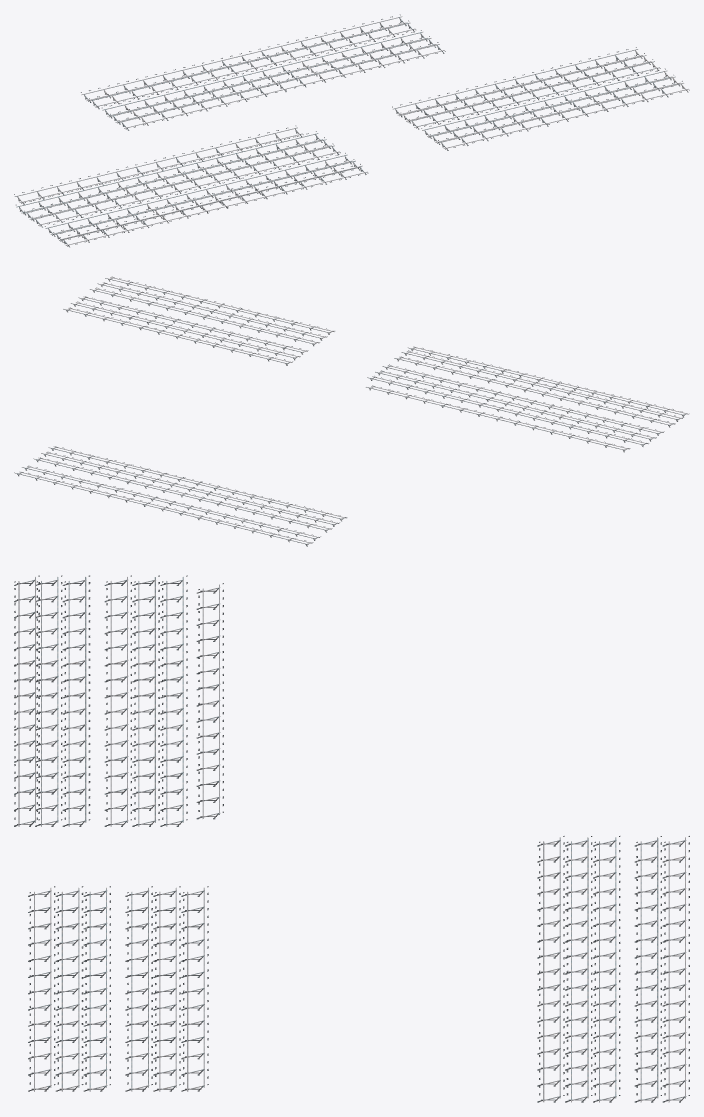
File: pv-mount.glb
The picture shows the model from 3 angles, top to bottom: view 1: azimuth 30°, elevation 25°; view 2: azimuth 150°, elevation 25°; view 3: azimuth 270°, elevation 25°; orthographic projection. The views are drawn at different scales.
Parts seen in each view (by area): view 1: PV_Mount_A, PV_Mount_LAB, PV_Mount_B; view 2: PV_Mount_A, PV_Mount_LAB, PV_Mount_B; view 3: PV_Mount_A, PV_Mount_LAB, PV_Mount_B.
Boxes of the visible parts, x1,y1,x2,y2 form: PV_Mount_A: (14, 125, 368, 247); PV_Mount_LAB: (81, 14, 445, 130); PV_Mount_B: (392, 47, 689, 150); PV_Mount_A: (366, 346, 689, 452); PV_Mount_LAB: (14, 446, 347, 546); PV_Mount_B: (63, 276, 334, 365); PV_Mount_A: (14, 575, 223, 826); PV_Mount_LAB: (537, 836, 689, 1102); PV_Mount_B: (28, 886, 208, 1091).
Size of the model in its own units: 77.95 by 6.66 by 43.67.
4 materials, 2 textured.
